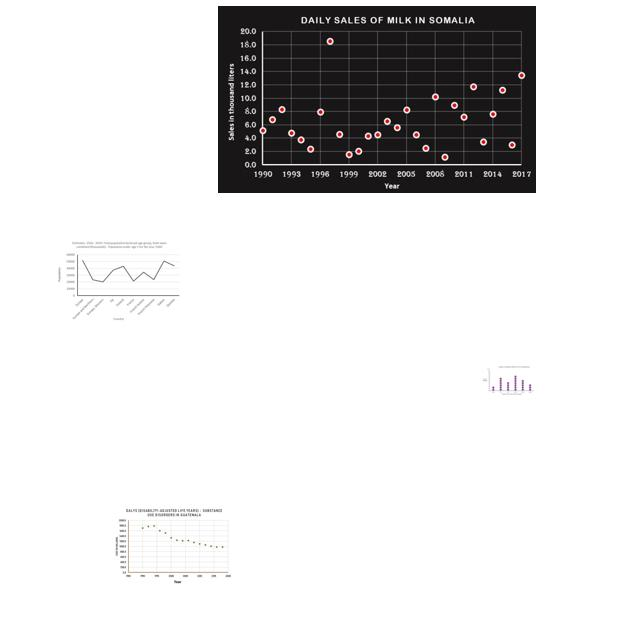Graph: (218, 6, 536, 193), (55, 240, 183, 322), (113, 507, 233, 585), (481, 365, 535, 396)
